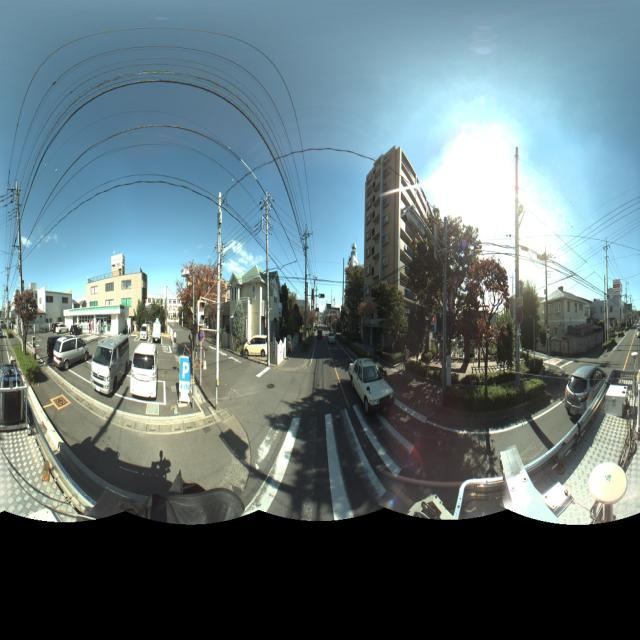b_1: (361, 147, 402, 330), (228, 264, 283, 363), (80, 268, 149, 340), (544, 286, 591, 349)
b_2: (178, 258, 228, 348)
